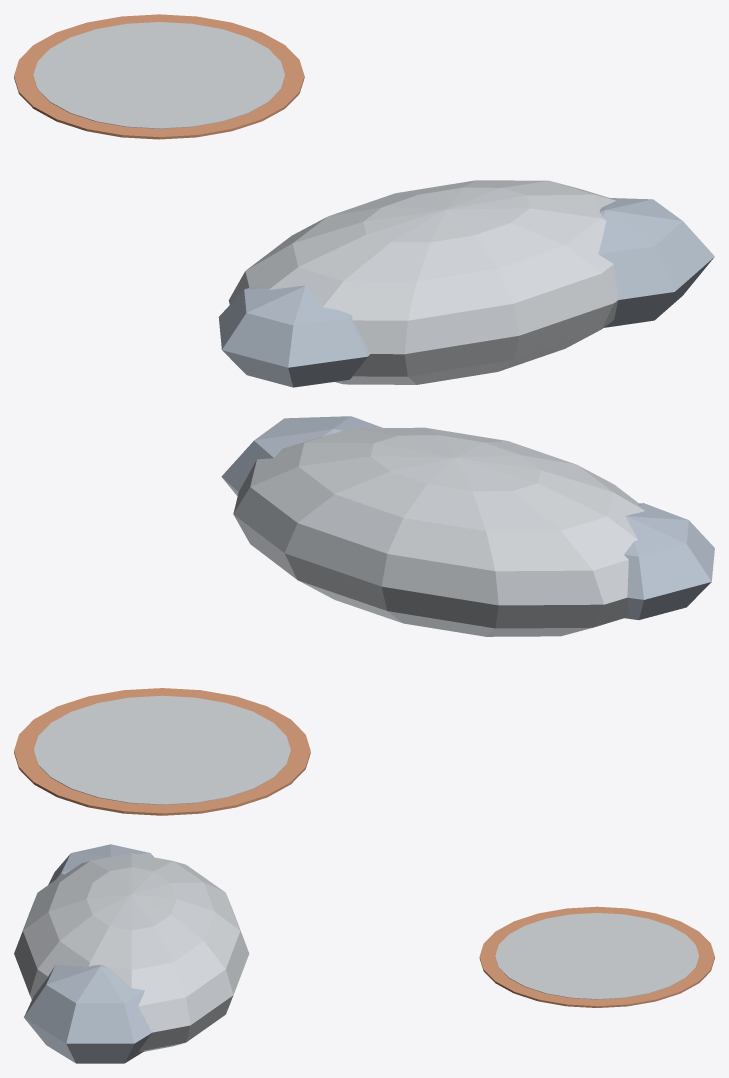
Rendered from frostslice_props.glb.
3 views of the same model, one above another, from view 1: azimuth 30°, elevation 25°; view 2: azimuth 150°, elevation 25°; view 3: azimuth 270°, elevation 25° (orthographic). The views are drawn at different scales.
Visible parts, largest first — view 1: frostslice_props; view 2: frostslice_props; view 3: frostslice_props.
Part boxes in pixels (x1,y1,x2,y2): frostslice_props: (14,14,714,387); frostslice_props: (14,416,714,815); frostslice_props: (14,844,714,1063).
Bounding box in the file's own units: 1.67 × 0.5 × 2.68.
